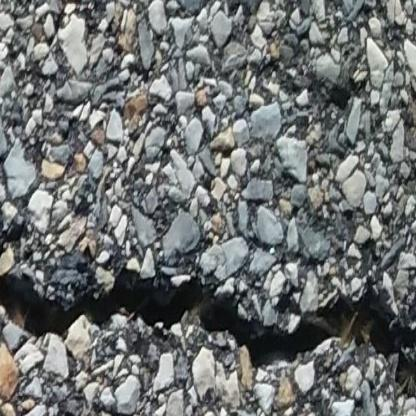Cracks: (0, 232, 416, 416)
